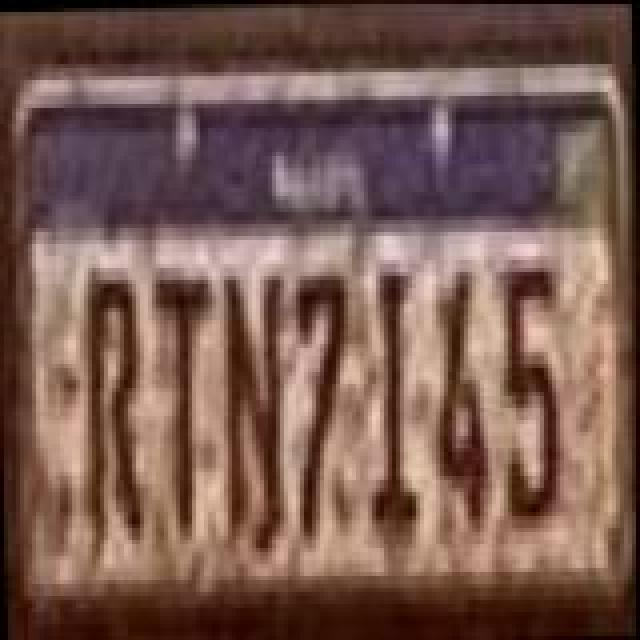4: (432, 266, 488, 530)
5: (494, 262, 562, 530)
7: (290, 274, 354, 546)
I: (362, 268, 422, 532)
N: (218, 268, 286, 548)
R: (80, 272, 144, 544)
T: (152, 268, 216, 544)
